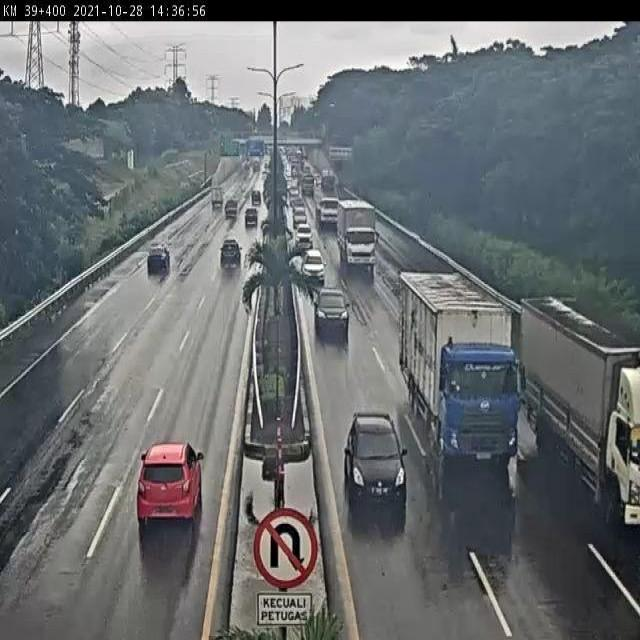big truck: (521, 333, 640, 520), (417, 304, 539, 483), (333, 200, 377, 268), (323, 181, 338, 224)
car: (111, 446, 212, 522), (348, 404, 404, 501), (315, 288, 354, 339), (217, 236, 246, 291), (137, 246, 166, 282), (303, 238, 322, 274), (296, 217, 309, 244), (223, 200, 237, 223), (243, 212, 257, 235)
small truck: (209, 186, 223, 213)
